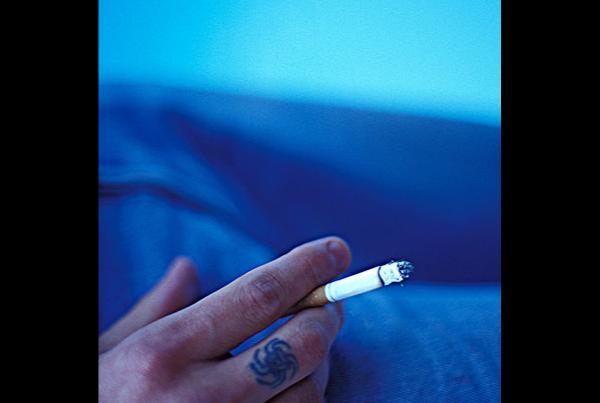Cigarette: (282, 258, 411, 314)
